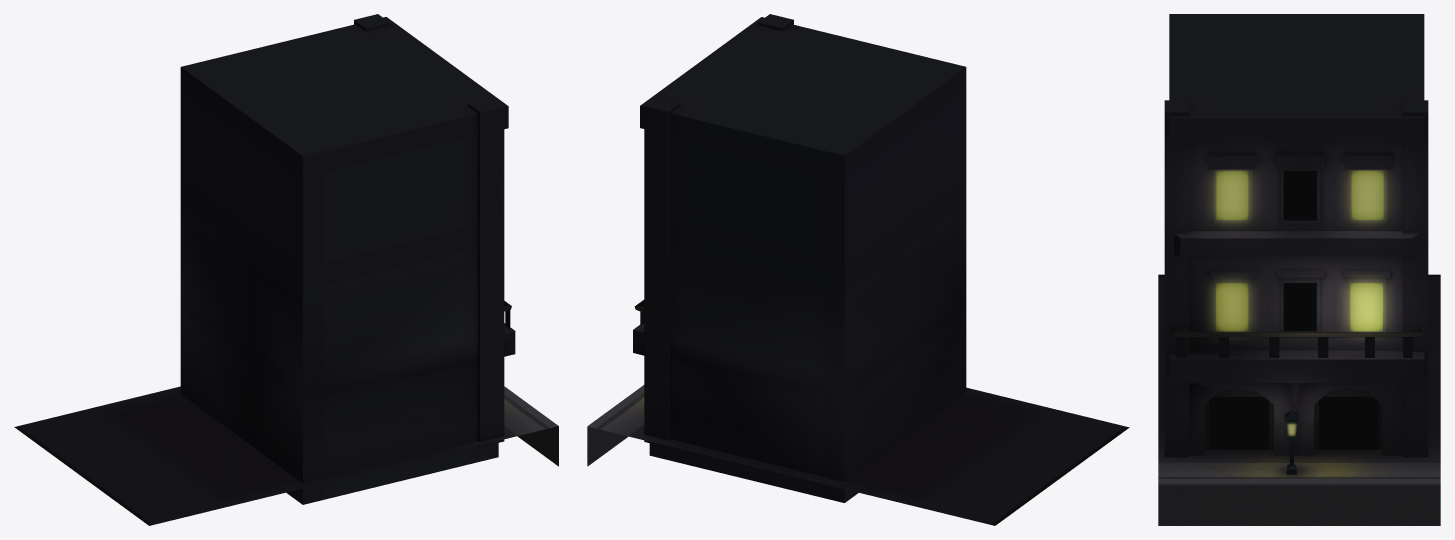
The picture shows the model from 3 angles, left to right: view 1: azimuth 30°, elevation 25°; view 2: azimuth 150°, elevation 25°; view 3: azimuth 270°, elevation 25°; orthographic projection. The views are drawn at different scales.
Parts seen in each view (by area): view 1: modelB001; view 2: modelB001; view 3: modelB001.
Part boxes in pixels (x1=…): modelB001: x1=14, y1=14, x2=558, y2=525; modelB001: x1=587, y1=14, x2=1129, y2=525; modelB001: x1=1158, y1=14, x2=1440, y2=525.
Bounding box in the file's own units: 276 × 238 × 157.
1 material, 1 textured.
